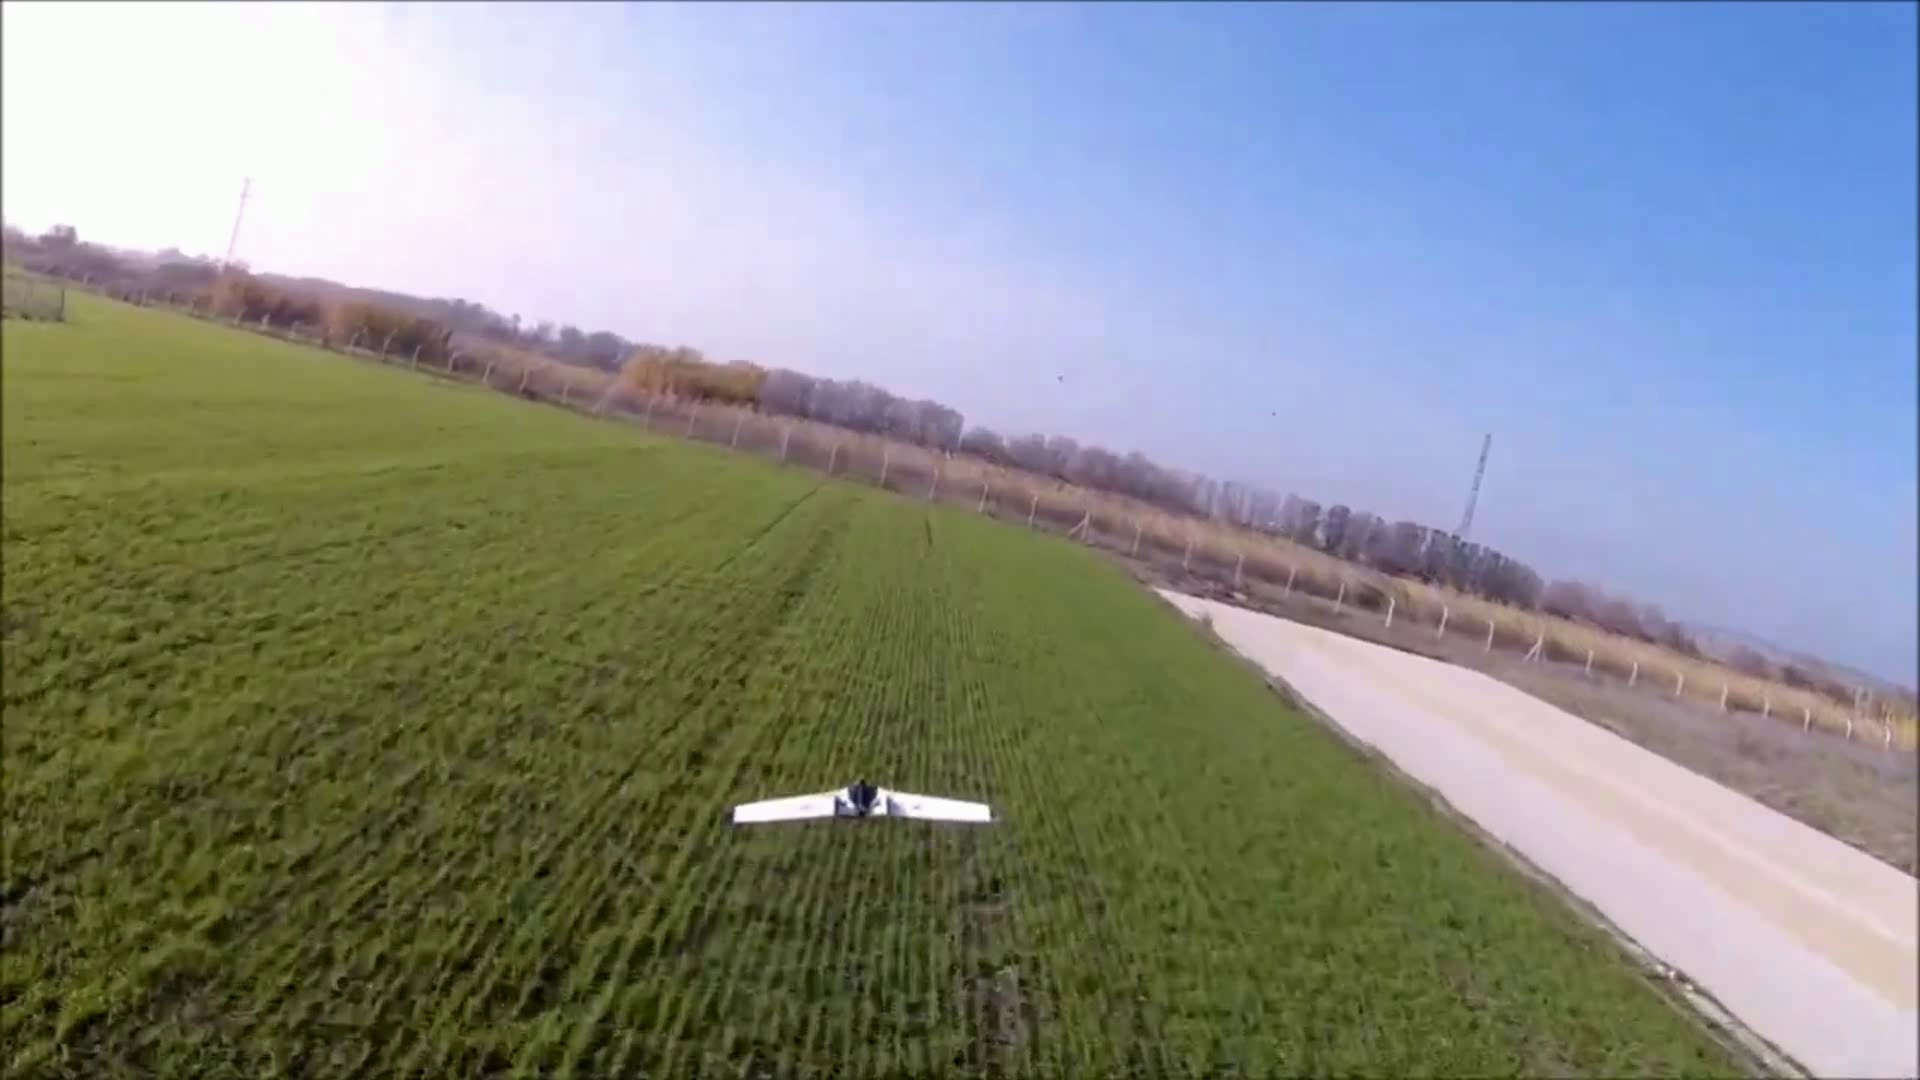airplane: (729, 779, 996, 829)
